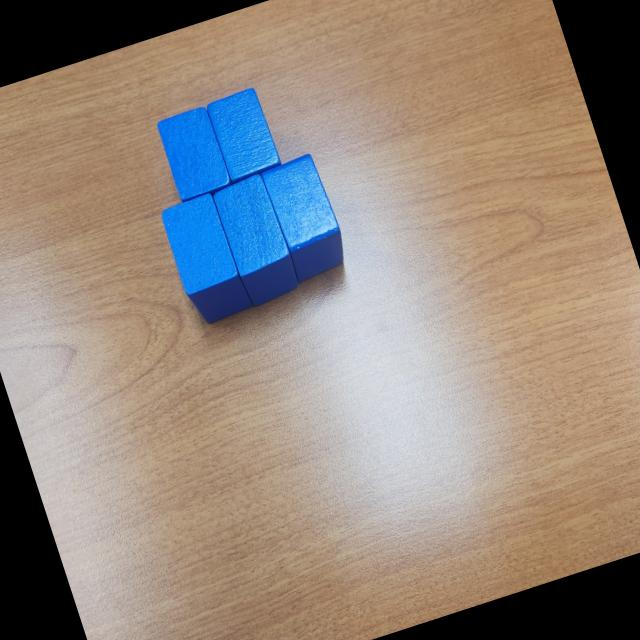blue: (157, 190, 254, 330), (209, 170, 303, 310), (260, 152, 352, 284), (154, 104, 236, 204), (204, 86, 284, 185)
